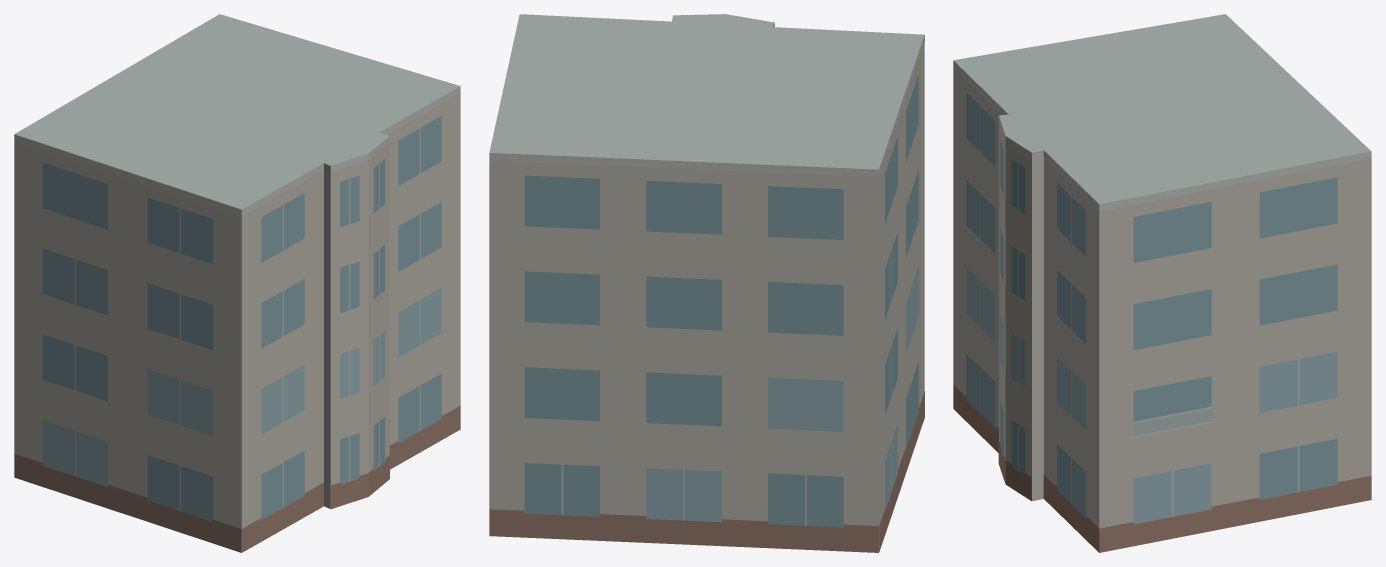
Rendered from survey-upis-32977124.glb.
3 views of the same model, side by side, from view 1: azimuth 30°, elevation 25°; view 2: azimuth 150°, elevation 25°; view 3: azimuth 270°, elevation 25° (orthographic). The views are drawn at different scales.
Parts seen in each view (by area): view 1: survey-upis-32977124.tmp; view 2: survey-upis-32977124.tmp; view 3: survey-upis-32977124.tmp.
Boxes of the visible parts, <box> form: survey-upis-32977124.tmp: <box>14,14,460,552</box>; survey-upis-32977124.tmp: <box>489,14,924,552</box>; survey-upis-32977124.tmp: <box>953,14,1371,552</box>.
Size of the model in its own units: 14.18 by 12.1 by 13.17.
